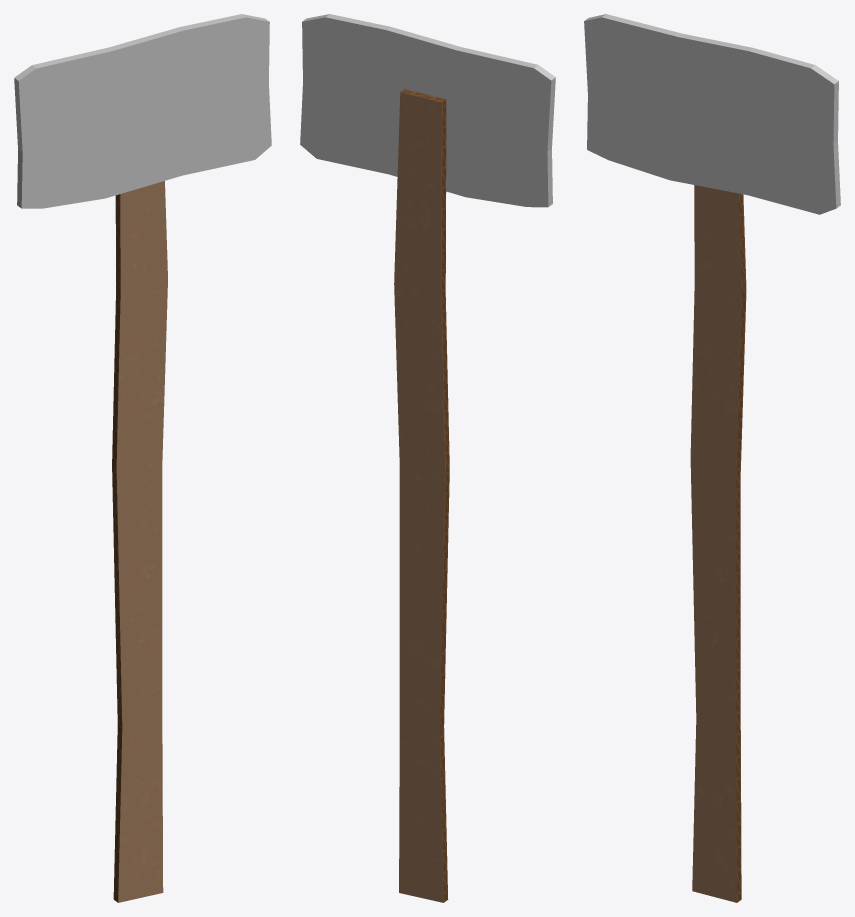
File: letreroRectangularX.fbx
3 renders of one model, left to right at view 1: azimuth 30°, elevation 25°; view 2: azimuth 150°, elevation 25°; view 3: azimuth 330°, elevation 25°, orthographic.
Parts seen in each view (by area): view 1: RectanguloX, Palo; view 2: Palo, RectanguloX; view 3: RectanguloX, Palo.
Boxes of the visible parts, x1,y1,x2,y2 form: RectanguloX: (14, 14, 271, 208); Palo: (112, 181, 167, 902); Palo: (394, 89, 449, 902); RectanguloX: (300, 14, 555, 207); RectanguloX: (584, 14, 840, 214); Palo: (690, 185, 746, 902).
Bounding box in the file's own units: 12.64 × 41.12 × 0.7859.
